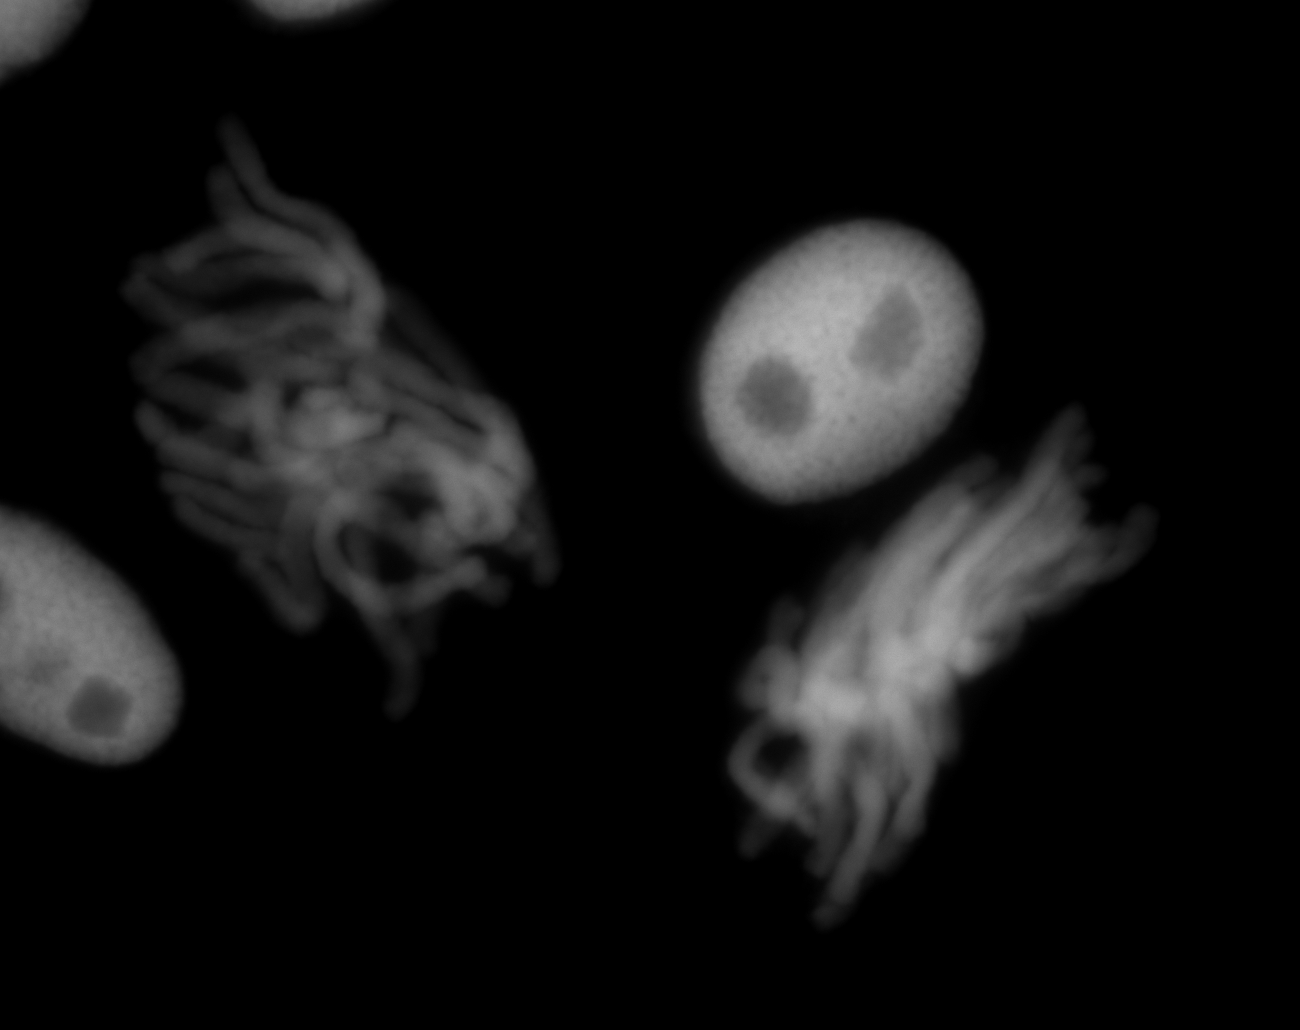Chromosomes: (609, 340, 1234, 980), (45, 103, 596, 767)
Others: (682, 188, 1017, 523), (1, 512, 212, 782)
